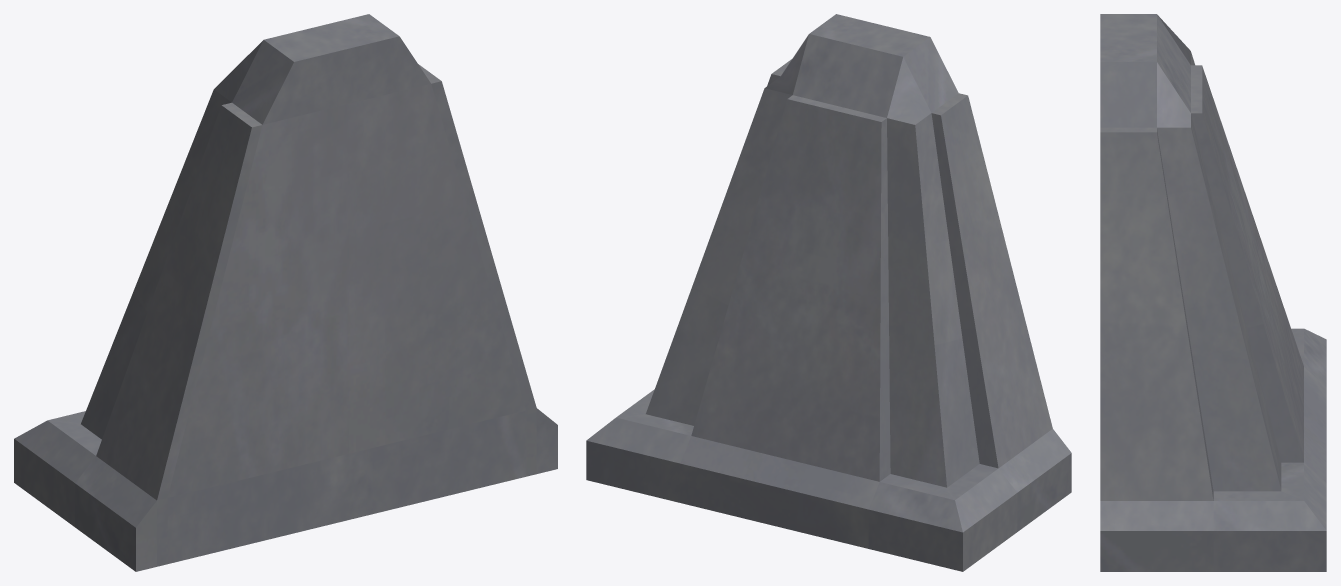
Rendered from PillarTop.001.fbx.
The picture shows the model from 3 angles, left to right: view 1: azimuth 30°, elevation 25°; view 2: azimuth 150°, elevation 25°; view 3: azimuth 270°, elevation 25°; orthographic projection. The views are drawn at different scales.
Parts seen in each view (by area): view 1: PillarTop.001; view 2: PillarTop.001; view 3: PillarTop.001.
Boxes of the visible parts, left/top/right/bottom form: PillarTop.001: left=14, top=14, right=557, bottom=571; PillarTop.001: left=586, top=14, right=1071, bottom=571; PillarTop.001: left=1100, top=14, right=1326, bottom=571.
Size of the model in its own units: 100 by 107 by 50.
